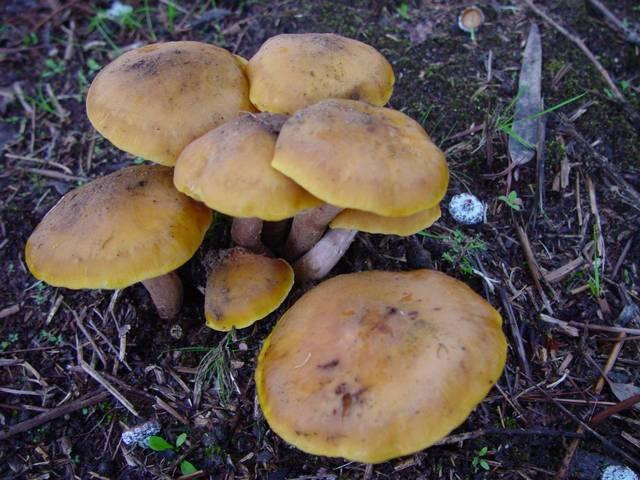Edible Mushroom: (84, 27, 454, 245), (253, 267, 508, 464), (23, 163, 212, 320)
